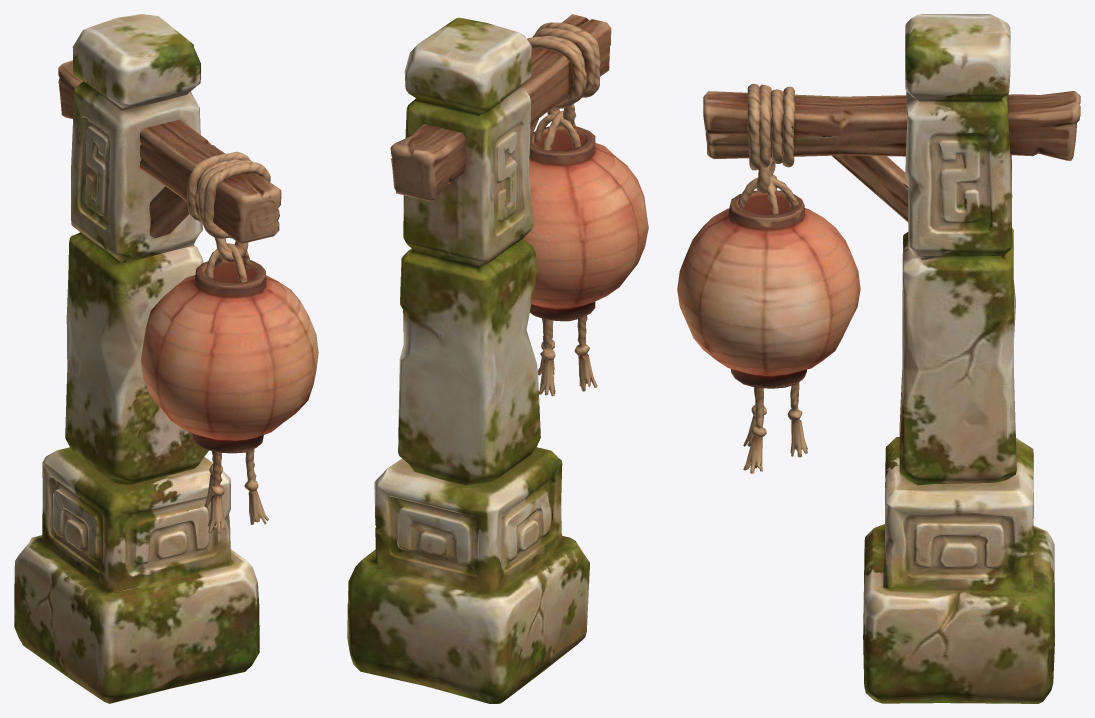
Rendered from lantern_post.glb.
3 renders of one model, left to right at view 1: azimuth 30°, elevation 25°; view 2: azimuth 150°, elevation 25°; view 3: azimuth 270°, elevation 25°, orthographic. The views are drawn at different scales.
Visible parts, largest first — view 1: geometry_0; view 2: geometry_0; view 3: geometry_0.
Part boxes in pixels (x1=…): geometry_0: x1=14, y1=14, x2=318, y2=703; geometry_0: x1=347, y1=14, x2=648, y2=703; geometry_0: x1=677, y1=14, x2=1080, y2=703.
Bounding box in the file's own units: 0.2573 × 0.9517 × 0.5459.
Materials: 1 (1 with a texture image).
